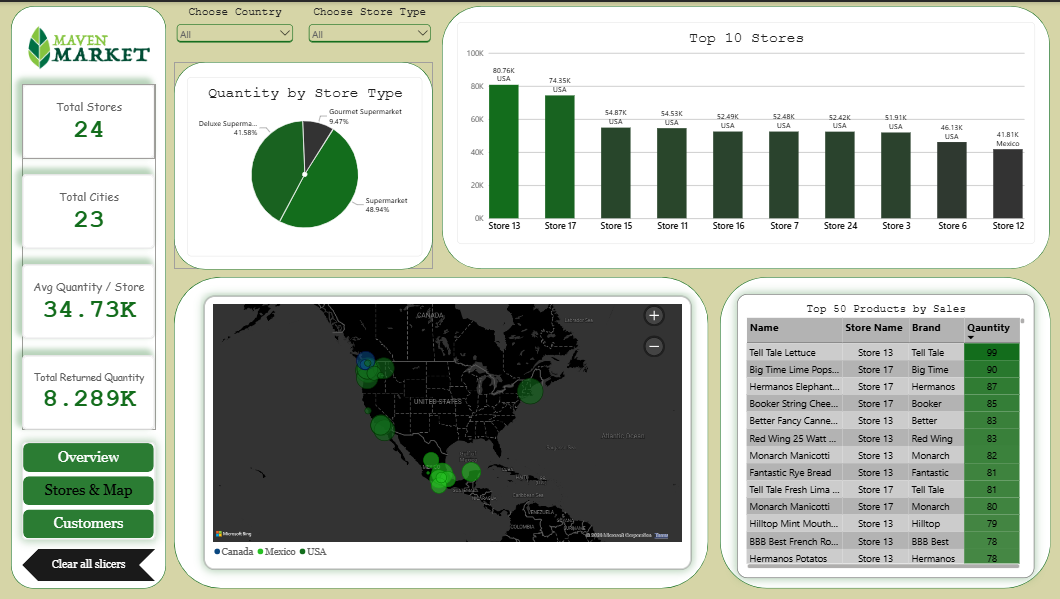

This screenshot's page, from the dashboard's own definition file:
{"tool":"powerbi","page":{"name":"Stores & Map","canvas":[1920,1080],"ordinal":1},"visuals":[{"type":"shape","box":[20,7.5,280,1052.5],"z":0},{"type":"shape","box":[799,8,1097.9,475.2],"z":0,"group":"g1"},{"type":"shape","box":[315,497.5,965,562.5],"z":0,"group":"g3"},{"type":"shape","box":[1300,497.5,597.4,562.5],"z":0,"group":"g2"},{"type":"image","box":[20,37.5,280,87.5],"z":1000},{"type":"clusteredColumnChart","title":"Top 10 Stores","fields":{"Category":["DimStore.store_name"],"Y":["_Measures.Total Sales Quantity"]},"box":[826.6,37.6,1044.1,401.5],"z":1000,"group":"g1"},{"type":"shape","box":[315,107.5,467.5,375],"z":1000,"group":"g4"},{"type":"cardVisual","fields":{"Data":["_Measures.Avg Quantity / Store"]},"box":[40.1,474.3,240,135],"z":1000,"group":"g5"},{"type":"tableEx","title":"Top 50 Products by Sales","fields":{"Values":["DimProduct.product_name","DimStore.store_name","DimProduct.product_brand","_Measures.Total Sales Quantity"]},"box":[1330.2,528.5,536.9,512.9],"z":1000,"group":"g2"},{"type":"cardVisual","fields":{"Data":["_Measures.Total Returned Quantity"]},"box":[40.1,637.2,240,135],"z":2000,"group":"g5"},{"type":"pageNavigator","box":[40.1,794.9,240.9,176.7],"z":2000},{"type":"group","id":"g1","title":"TOP 10 Stores","box":[799,8,1098.1,475.8],"z":3000},{"type":"cardVisual","fields":{"Data":["_Measures.Total cities"]},"box":[40.1,311.5,240,135],"z":4000,"group":"g5"},{"type":"group","id":"g2","title":"50 Sales Product","box":[1300,497.5,597.5,562.5],"z":4000},{"type":"map","title":"Top 50 Products by Sales","fields":{"Category":["DimStore.Full City"],"Series":["DimStore.store_country"],"Size":["_Measures.Total Sales Quantity"]},"box":[369.9,531.6,880.1,494.5],"z":4500,"group":"g3"},{"type":"cardVisual","fields":{"Data":["_Measures.Total Stores"]},"box":[40.1,148.6,240,135],"z":5000,"group":"g5"},{"type":"group","id":"g3","title":"Group 1","box":[315,497.5,965,562.5],"z":5000},{"type":"actionButton","box":[40.1,987.7,240.9,58.2],"z":6000},{"type":"group","id":"g4","title":"Group 2","box":[315,107.5,467.5,375],"z":7000},{"type":"donutChart","title":" Quantity by Store Type","fields":{"Category":["DimStore.store_type"],"Y":["_Measures.Total Sales Quantity"]},"box":[338.7,134.3,425.4,323.7],"z":8000,"group":"g4"},{"type":"group","id":"g5","title":"Group 3","box":[40.1,148.6,240.9,624.3],"z":8000},{"type":"slicer","title":"Choose Country","fields":{"Values":["DimStore.store_country"]},"box":[315,7.5,220,100],"z":9000},{"type":"slicer","title":"Choose Store Type","fields":{"Values":["DimStore.store_type"]},"box":[552.5,7.5,230,100],"z":10000}]}

Visuals, with their boxes in screenshot pixels (x1, y1, x2, y2), scaled from the page's 1920x1080 canvas onto the 1060x599 screenshot:
shape: rect(11, 4, 166, 588)
shape: rect(441, 4, 1047, 268)
shape: rect(174, 276, 707, 588)
shape: rect(718, 276, 1048, 588)
image: rect(11, 21, 166, 69)
"Top 10 Stores" clusteredColumnChart: rect(456, 21, 1033, 244)
shape: rect(174, 60, 432, 268)
cardVisual - _Measures.Avg Quantity / Store: rect(22, 263, 155, 338)
"Top 50 Products by Sales" tableEx: rect(734, 293, 1031, 578)
cardVisual - _Measures.Total Returned Quantity: rect(22, 353, 155, 428)
pageNavigator: rect(22, 441, 155, 539)
"TOP 10 Stores" group: rect(441, 4, 1047, 268)
cardVisual - _Measures.Total cities: rect(22, 173, 155, 248)
"50 Sales Product" group: rect(718, 276, 1048, 588)
"Top 50 Products by Sales" map: rect(204, 295, 690, 569)
cardVisual - _Measures.Total Stores: rect(22, 82, 155, 157)
"Group 1" group: rect(174, 276, 707, 588)
actionButton: rect(22, 548, 155, 580)
"Group 2" group: rect(174, 60, 432, 268)
" Quantity by Store Type" donutChart: rect(187, 74, 422, 254)
"Group 3" group: rect(22, 82, 155, 429)
"Choose Country" slicer: rect(174, 4, 295, 60)
"Choose Store Type" slicer: rect(305, 4, 432, 60)
